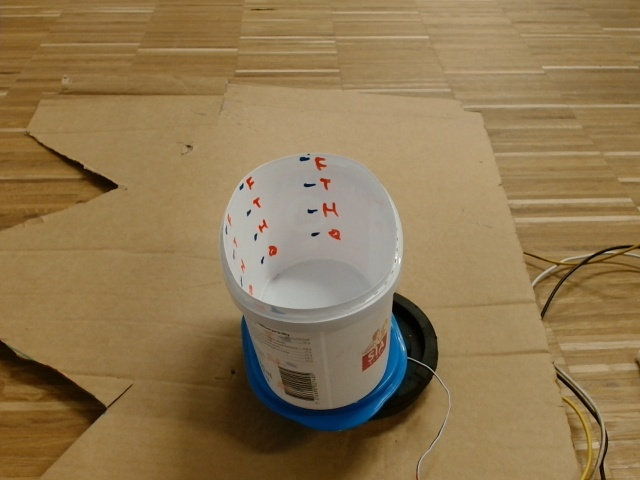Big_zero: (220, 149, 403, 325)
